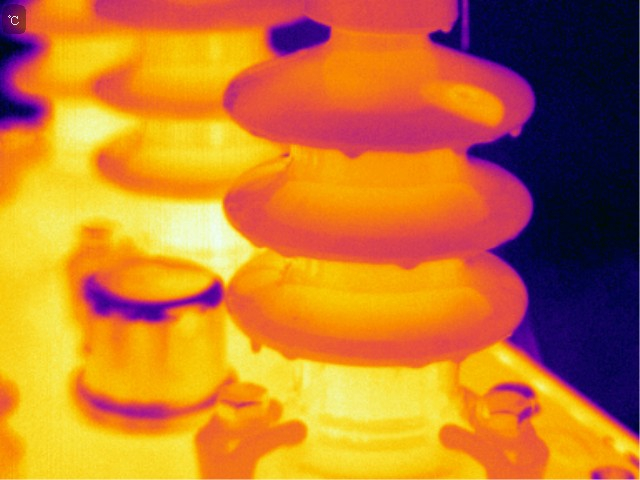Oil: (418, 77, 501, 127), (269, 234, 305, 262), (245, 235, 264, 257), (277, 345, 301, 362), (394, 257, 422, 271), (247, 338, 267, 355), (409, 356, 433, 370), (507, 124, 527, 139), (344, 147, 367, 160), (437, 22, 455, 35)
